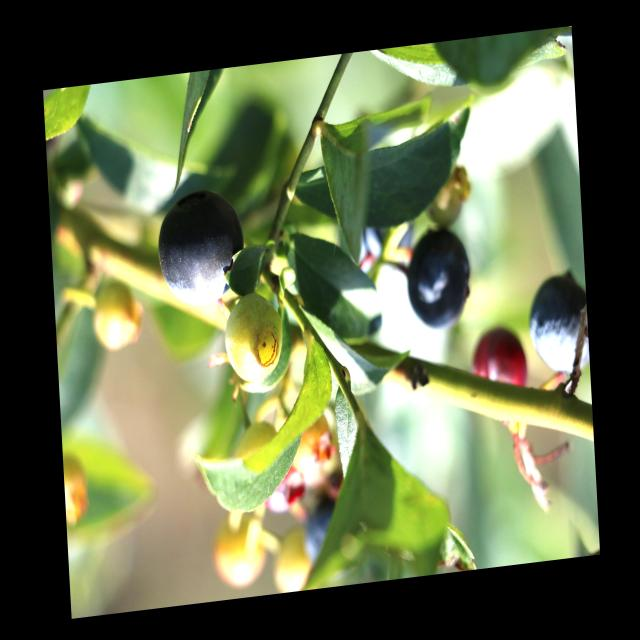blueberry: (154, 184, 248, 314), (402, 220, 473, 338), (516, 269, 590, 378)
blueberry-halfripe: (471, 325, 529, 397)
blueberry-unripe: (225, 295, 285, 383), (90, 281, 143, 352), (291, 424, 331, 472)
